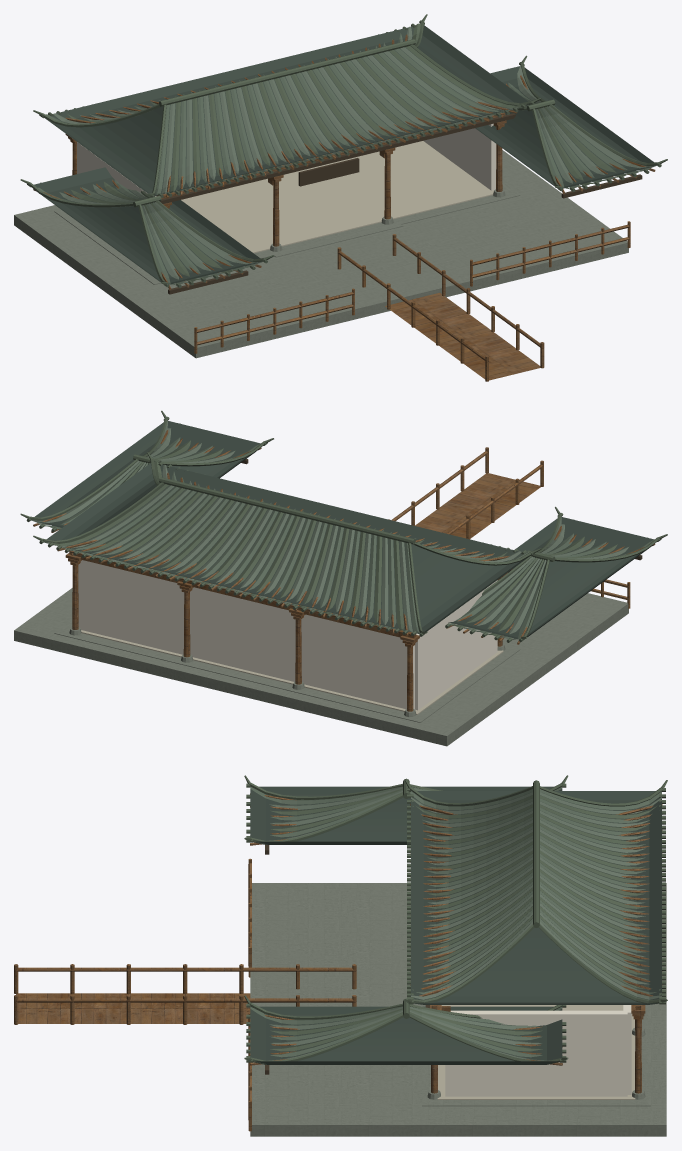
The model's file is ouxiangxie.glb.
3 renders of one model, top to bottom at view 1: azimuth 30°, elevation 25°; view 2: azimuth 150°, elevation 25°; view 3: azimuth 270°, elevation 25°, orthographic. The views are drawn at different scales.
Visible parts, largest first — view 1: ouxiangxie_stone, ouxiangxie_roof, ouxiangxie_tiledark, ouxiangxie_wood, ouxiangxie_paving, ouxiangxie_tilelight, ouxiangxie_tile, ouxiangxie_darkwood, ouxiangxie_plaster; view 2: ouxiangxie_roof, ouxiangxie_plaster, ouxiangxie_stone, ouxiangxie_tiledark, ouxiangxie_wood, ouxiangxie_tilelight, ouxiangxie_tile, ouxiangxie_paving; view 3: ouxiangxie_stone, ouxiangxie_roof, ouxiangxie_tiledark, ouxiangxie_wood, ouxiangxie_tile, ouxiangxie_tilelight, ouxiangxie_plaster, ouxiangxie_paving.
Part boxes in pixels (x1,y1,x2,y2): ouxiangxie_stone: [14, 150, 628, 358]; ouxiangxie_roof: [34, 25, 656, 284]; ouxiangxie_tiledark: [20, 14, 667, 287]; ouxiangxie_wood: [33, 34, 655, 381]; ouxiangxie_paving: [181, 141, 494, 253]; ouxiangxie_tilelight: [53, 26, 656, 284]; ouxiangxie_tile: [34, 33, 642, 285]; ouxiangxie_darkwood: [160, 113, 642, 294]; ouxiangxie_plaster: [77, 123, 496, 196]; ouxiangxie_roof: [32, 421, 654, 639]; ouxiangxie_plaster: [78, 560, 497, 710]; ouxiangxie_stone: [14, 588, 628, 746]; ouxiangxie_tiledark: [20, 410, 667, 642]; ouxiangxie_wood: [33, 430, 655, 711]; ouxiangxie_tilelight: [31, 420, 628, 639]; ouxiangxie_tile: [44, 437, 653, 639]; ouxiangxie_paving: [81, 630, 503, 714]; ouxiangxie_stone: [250, 883, 666, 1136]; ouxiangxie_roof: [250, 786, 661, 1064]; ouxiangxie_tiledark: [244, 775, 667, 1064]; ouxiangxie_wood: [14, 793, 662, 1131]; ouxiangxie_tile: [250, 786, 661, 1057]; ouxiangxie_tilelight: [266, 787, 661, 1060]; ouxiangxie_plaster: [445, 1005, 631, 1096]; ouxiangxie_paving: [437, 1005, 635, 1099].
Size of the model in its own units: 25.74 by 6.98 by 25.14.
Materials: 9 (2 with a texture image).
